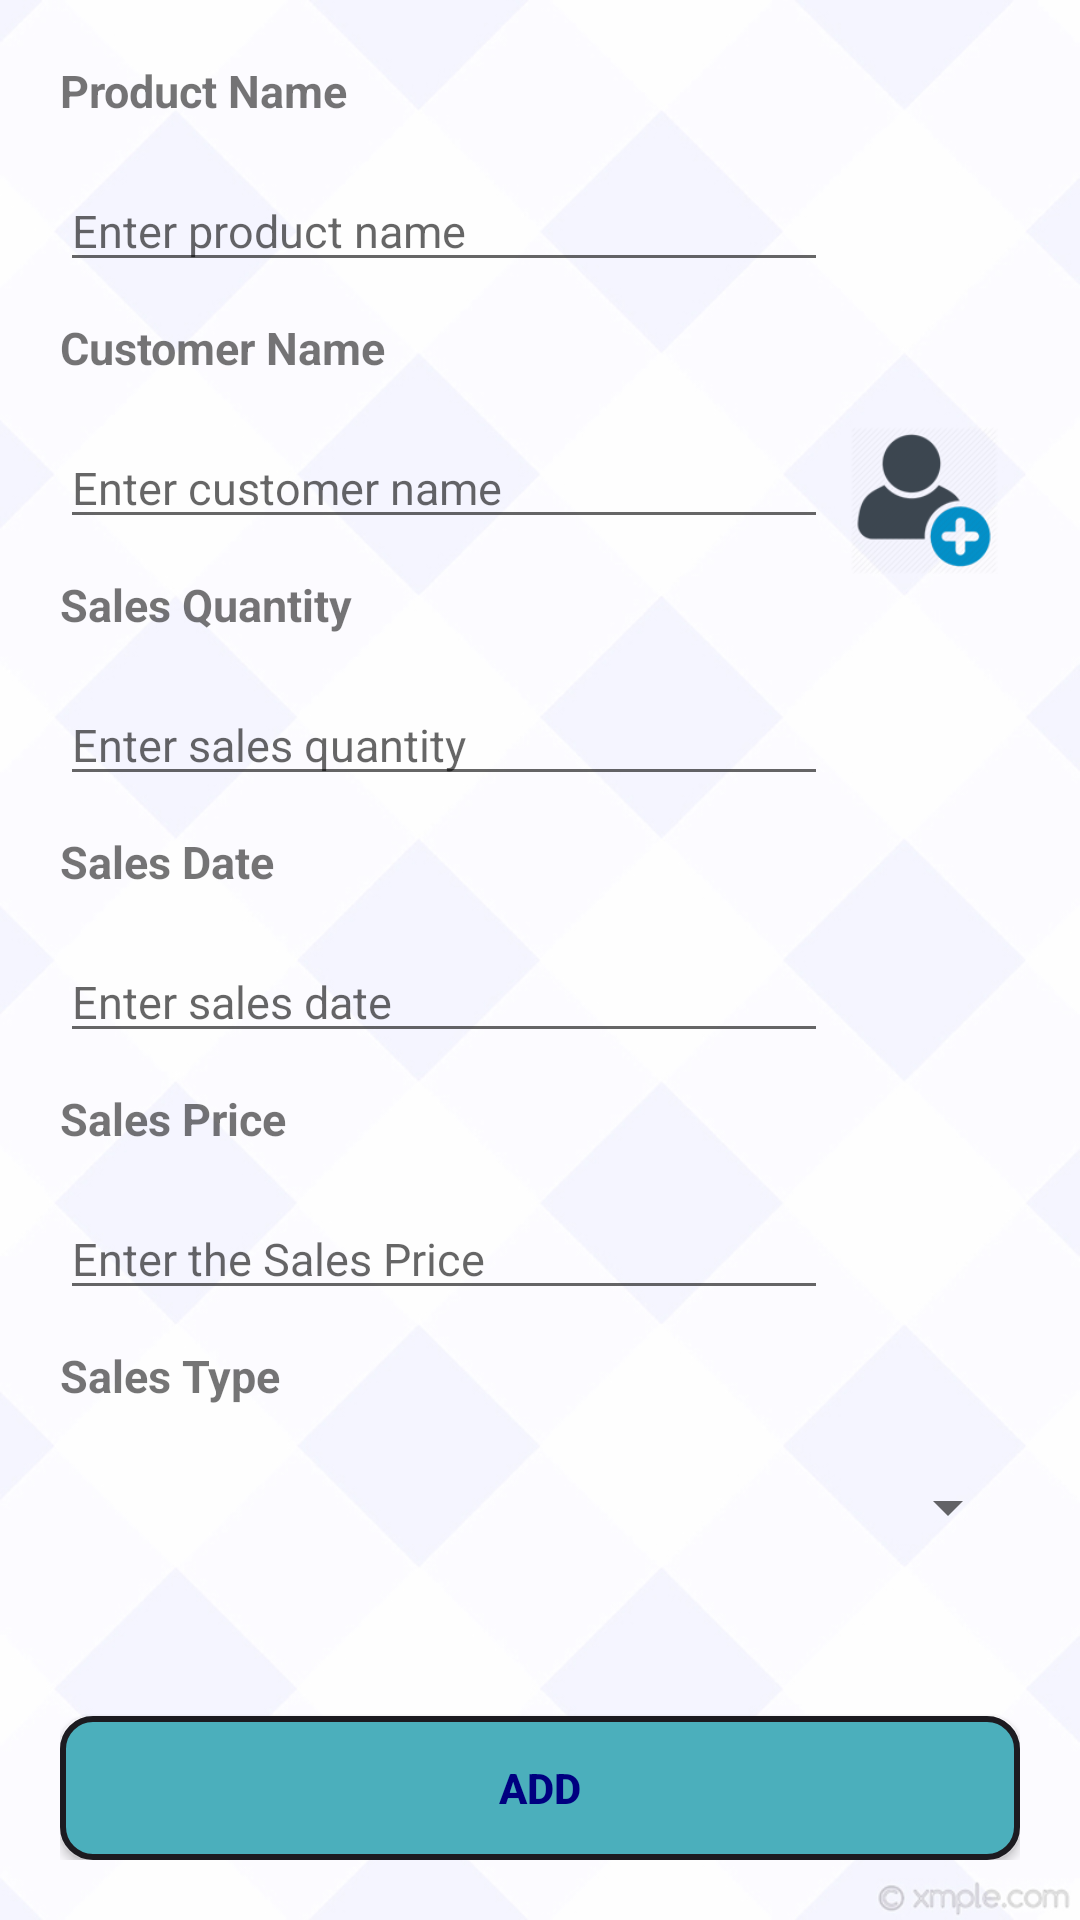

Screen size 1080 × 1920. Icon name, then its center in pixels as point (x, y):
add customer: point (924, 500)
